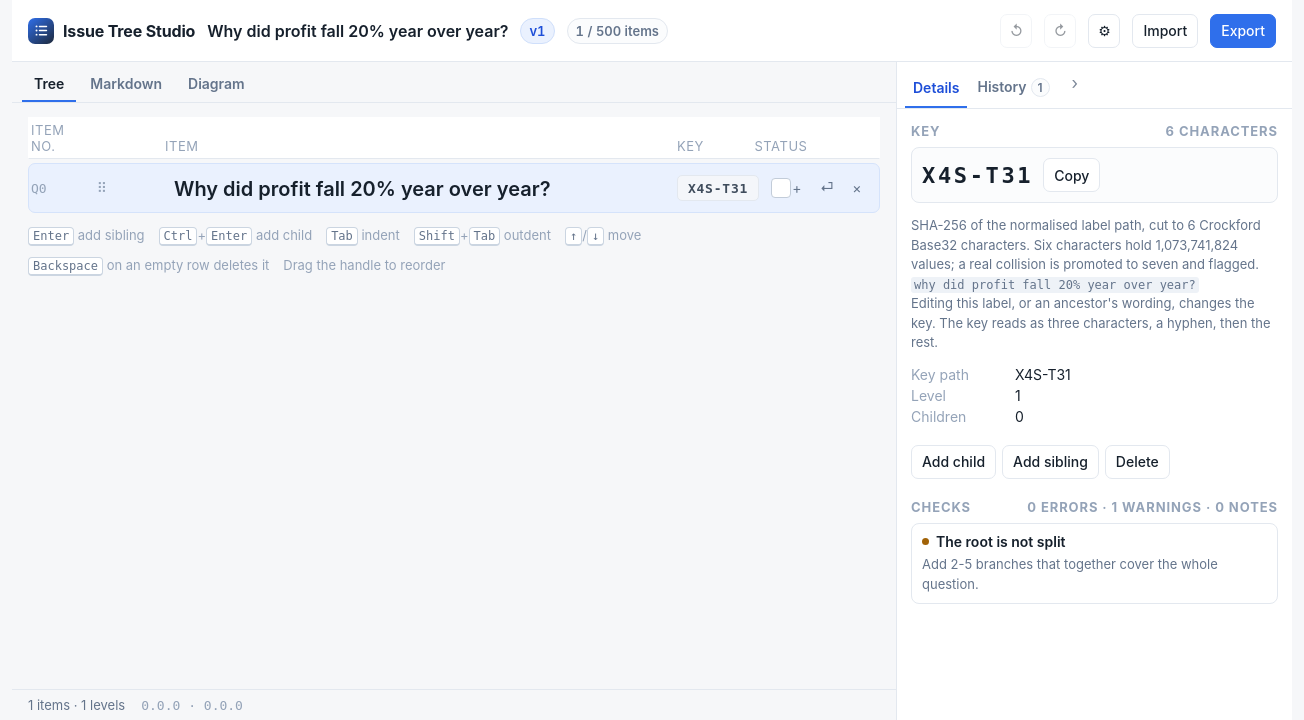
Test case: the right panel › keeps Ctrl+backslash from touching the panel outside Tree
Expected: the element with class "rightbar" is shown, [896,62,1292,719]
Click the tab "Markdown" at (126, 85), box [78,68,174,102]
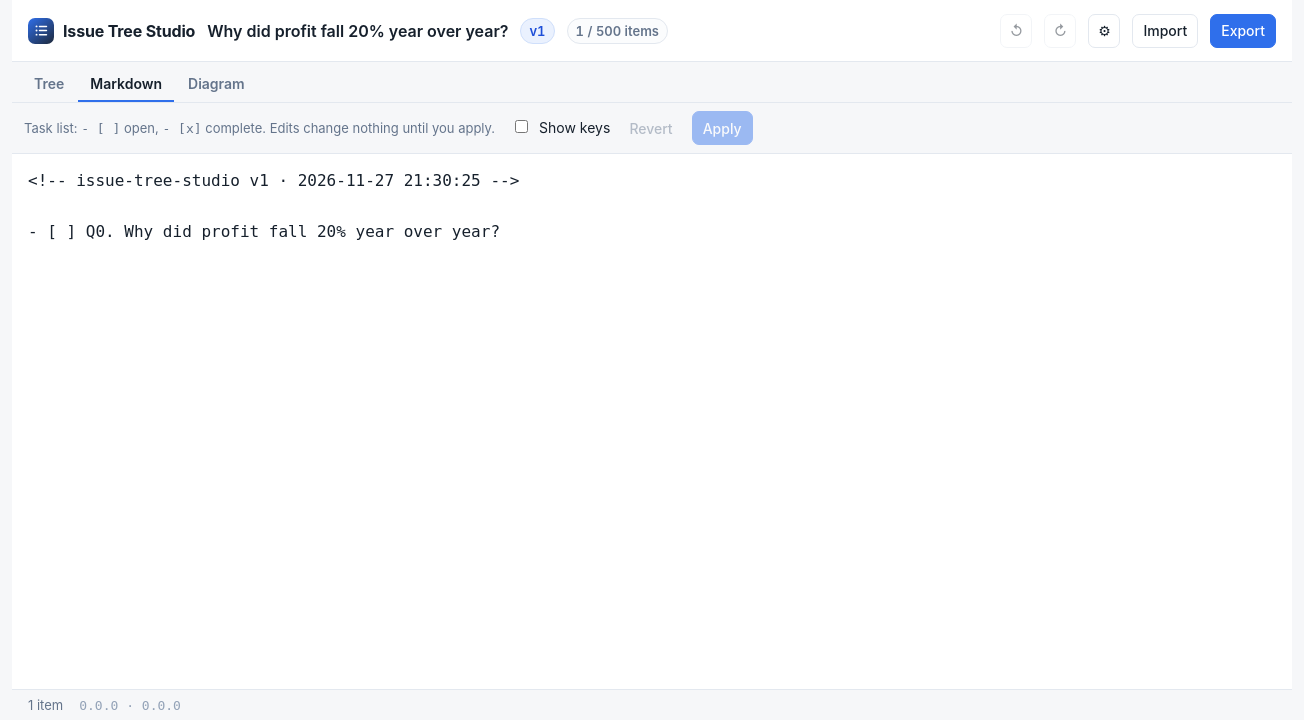
Result: the element with class "rightbar" is gone
Press \
Click the tab "Tree" at (49, 85), box [22,68,76,102]
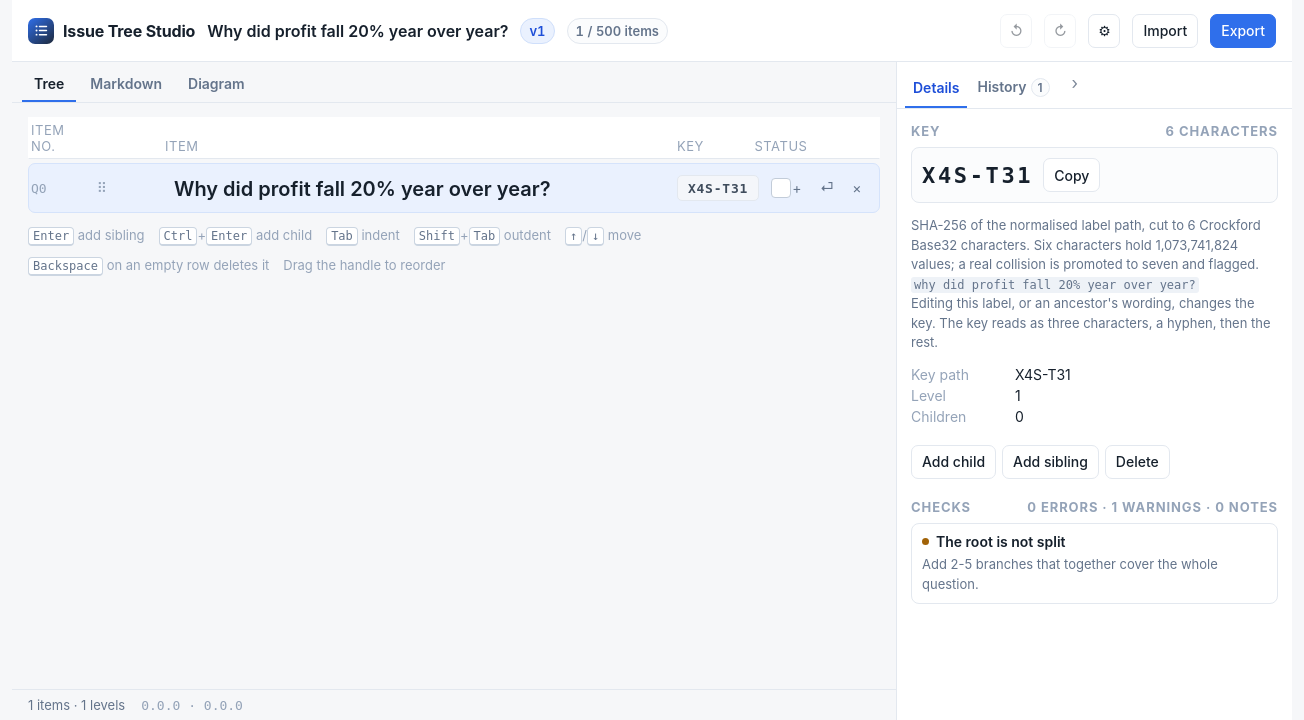
Result: the element with class "rightbar" is shown at [896,62,1292,719]
